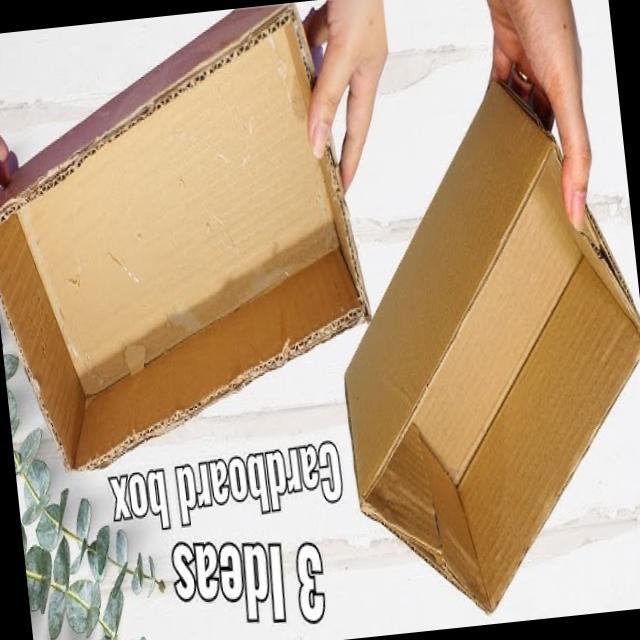cardboard_box: (0, 1, 380, 504), (326, 43, 640, 624)
